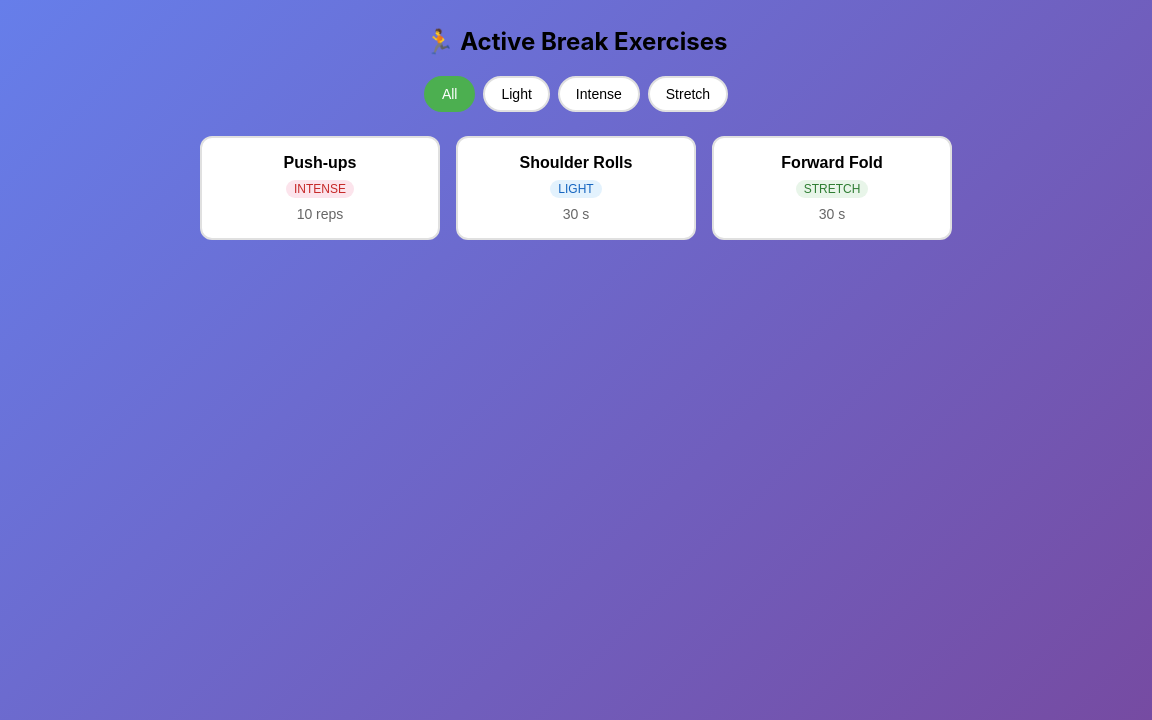
ExerciseLibrary › renders only Intense exercises when Intense filter active
Click the button with aria-label "filter by intense" at [599, 94], box [558,76,640,112]
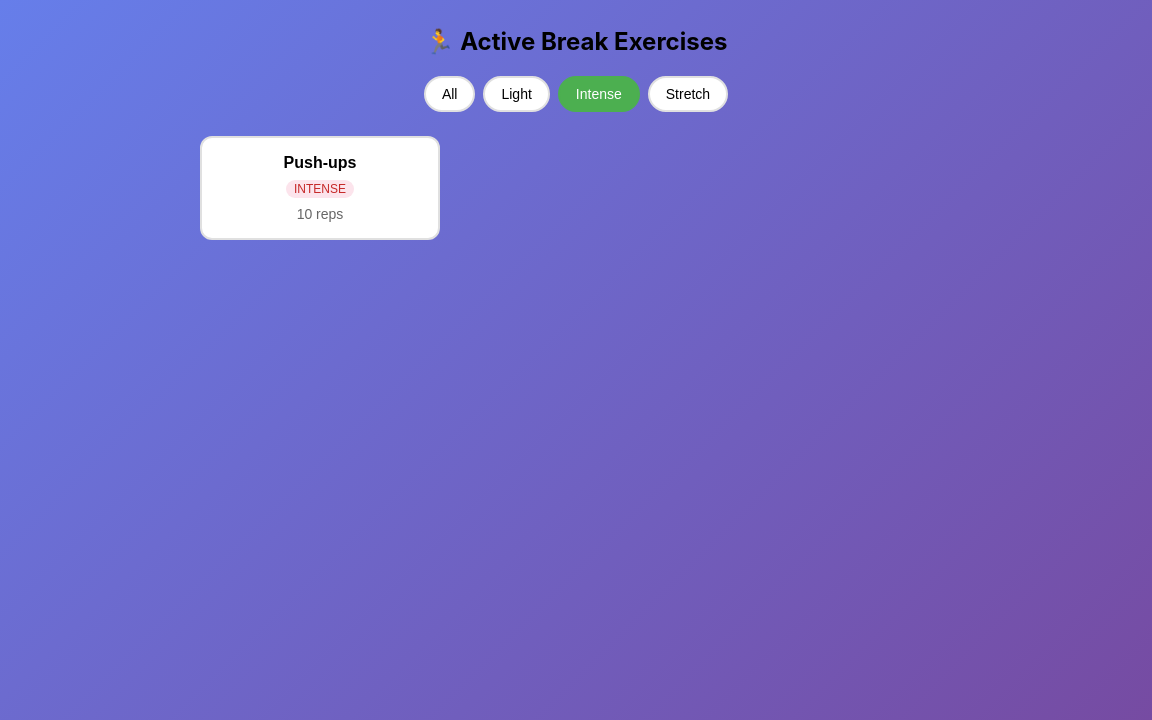
Expected: the text "Push-ups" is shown, [284,154,356,172]
Expected: the button "Shoulder Rolls" is gone
